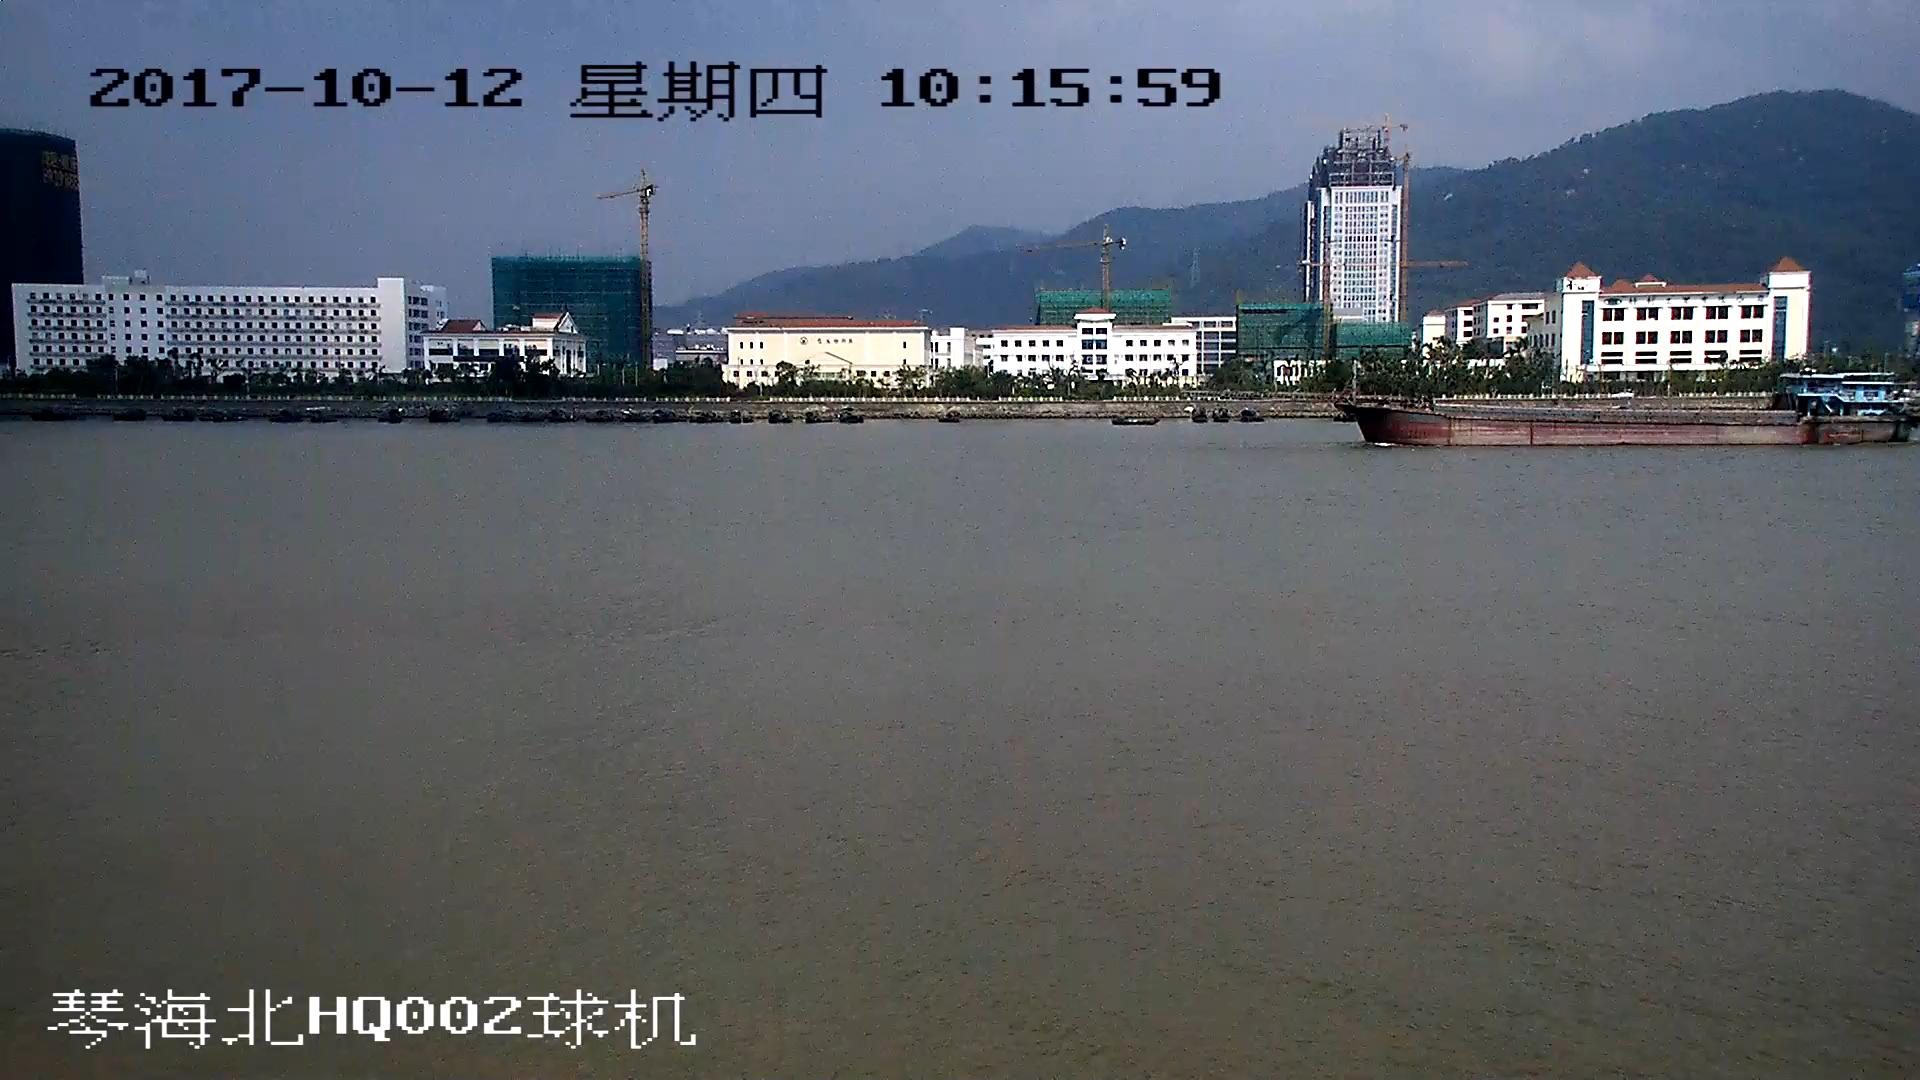bulk cargo carrier: (1344, 371, 1920, 449)
